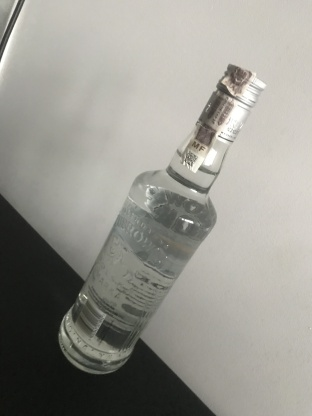nakretka: (194, 60, 267, 147)
